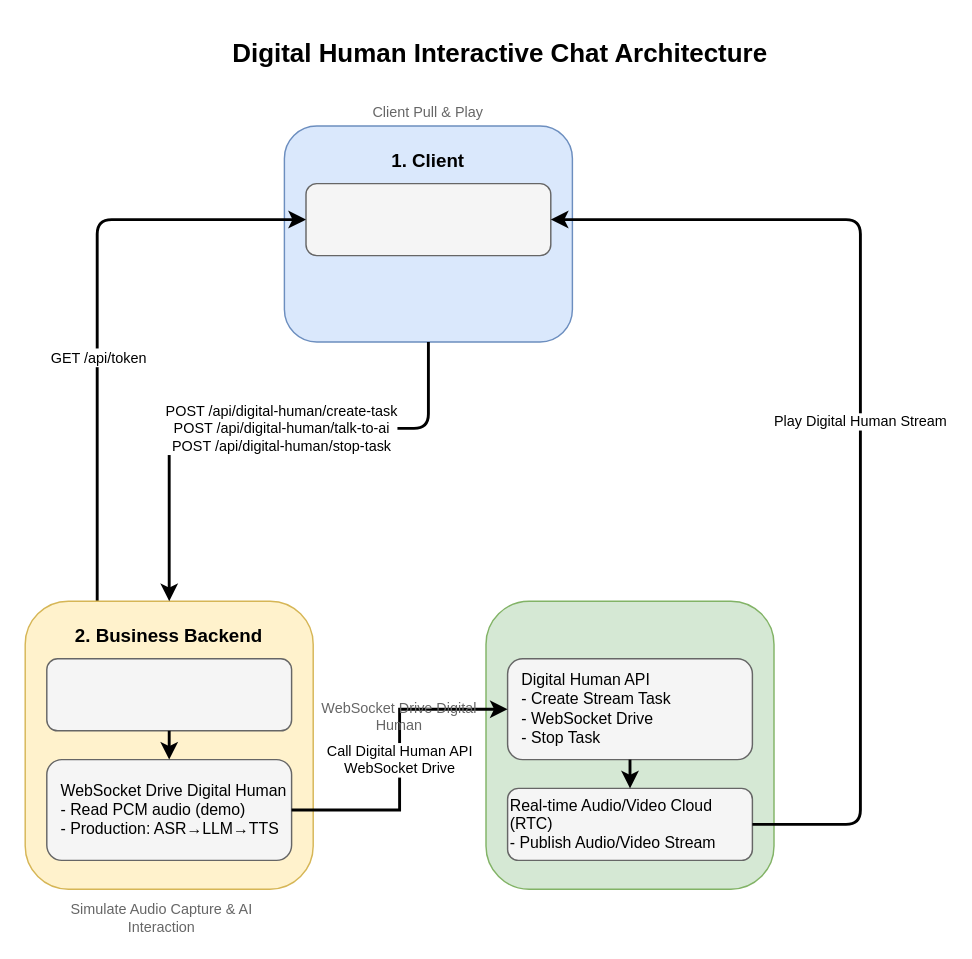
Image size: 972x959. Some labels were removed from this diagram. The shapes that lost their labels are listed below. From the top down, each one's box as (x1, y1, x2, y2) in pixels, then its label:
(305, 182, 551, 256): ZEGO Express SDK Play Stream
(45, 657, 292, 731): Create Digital Human Task Generate Token
(485, 600, 774, 889): 3. ZEGO Server
